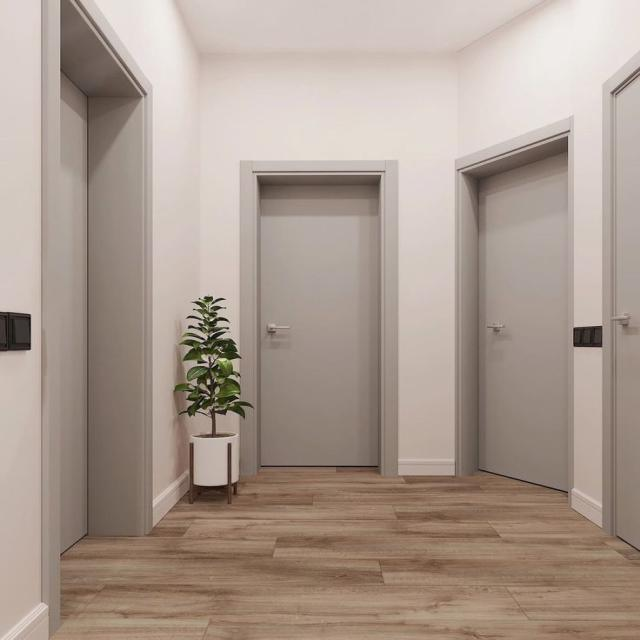door: (256, 177, 381, 467), (476, 139, 572, 492)
